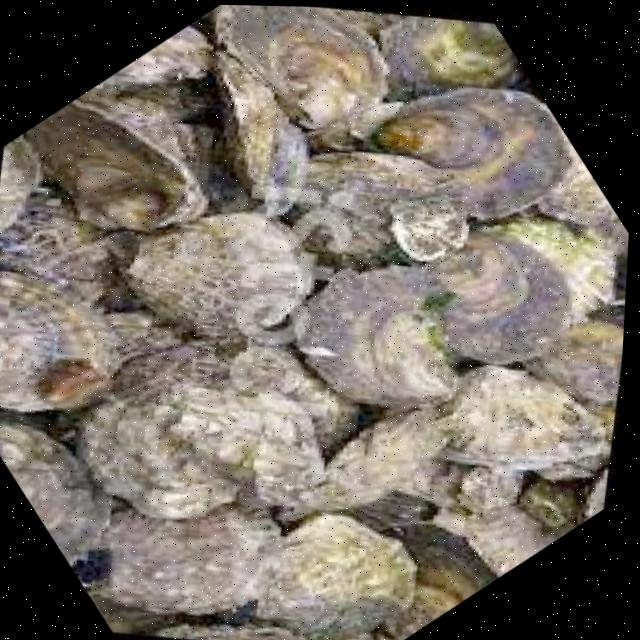Oyster-Closed: (440, 365, 601, 482), (209, 35, 309, 214)
Oyster-Indeterminate: (182, 350, 343, 536), (356, 86, 574, 220), (124, 212, 319, 360), (216, 5, 405, 156), (290, 267, 463, 411), (25, 103, 207, 233), (79, 390, 253, 522), (253, 514, 419, 636), (299, 151, 464, 272), (0, 410, 117, 579), (431, 236, 576, 369), (104, 506, 283, 611), (0, 270, 120, 414), (426, 466, 554, 592), (5, 194, 139, 309), (83, 5, 222, 103), (326, 406, 459, 495), (533, 296, 625, 414), (378, 16, 521, 90), (438, 443, 532, 528), (507, 465, 583, 543)
